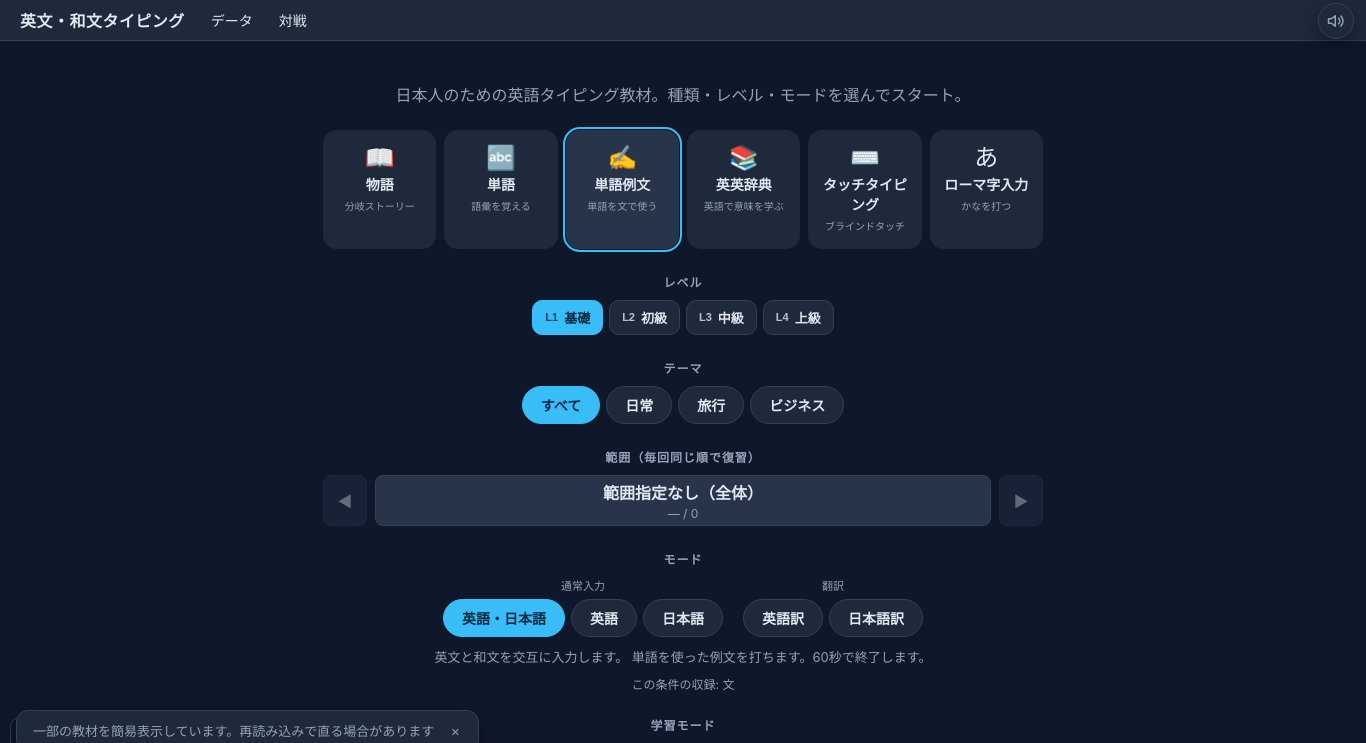
Test case: App スモーク › 紹介ページで Esc を押すとトップへ戻る
Click the menu item "英文・和文タイピング". click: (102, 20)
box: x1=8 y1=0 x2=197 y2=40
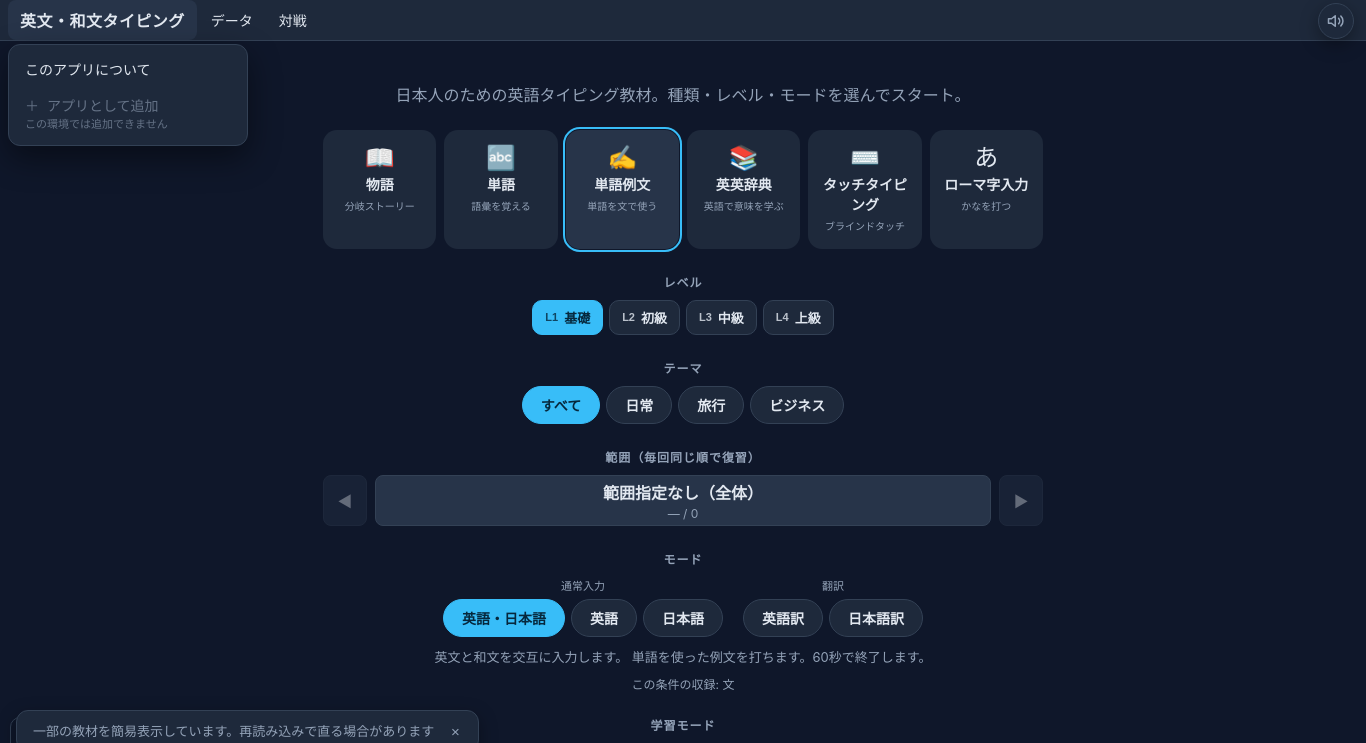
Click the menu item "このアプリについて". click: (128, 69)
box: x1=15 y1=51 x2=241 y2=87
(page scrolled)
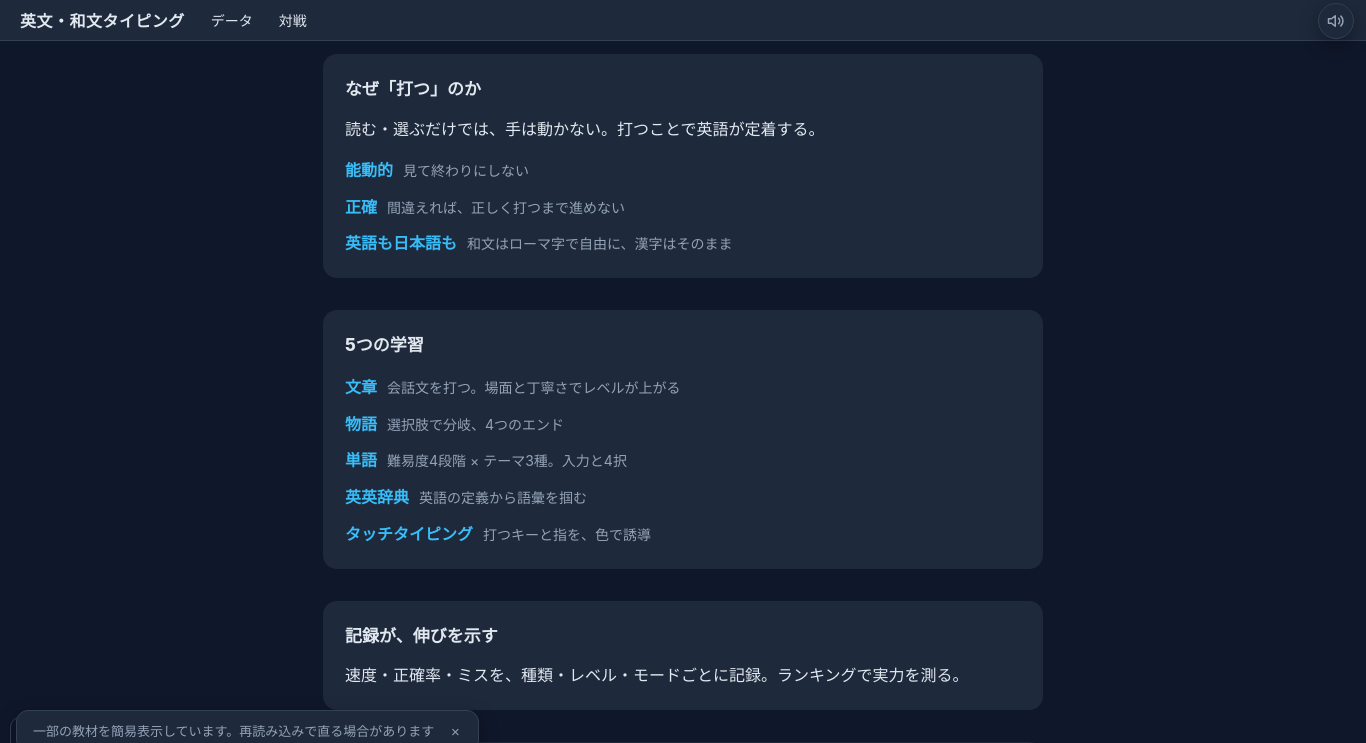
Press Escape
(page scrolled)
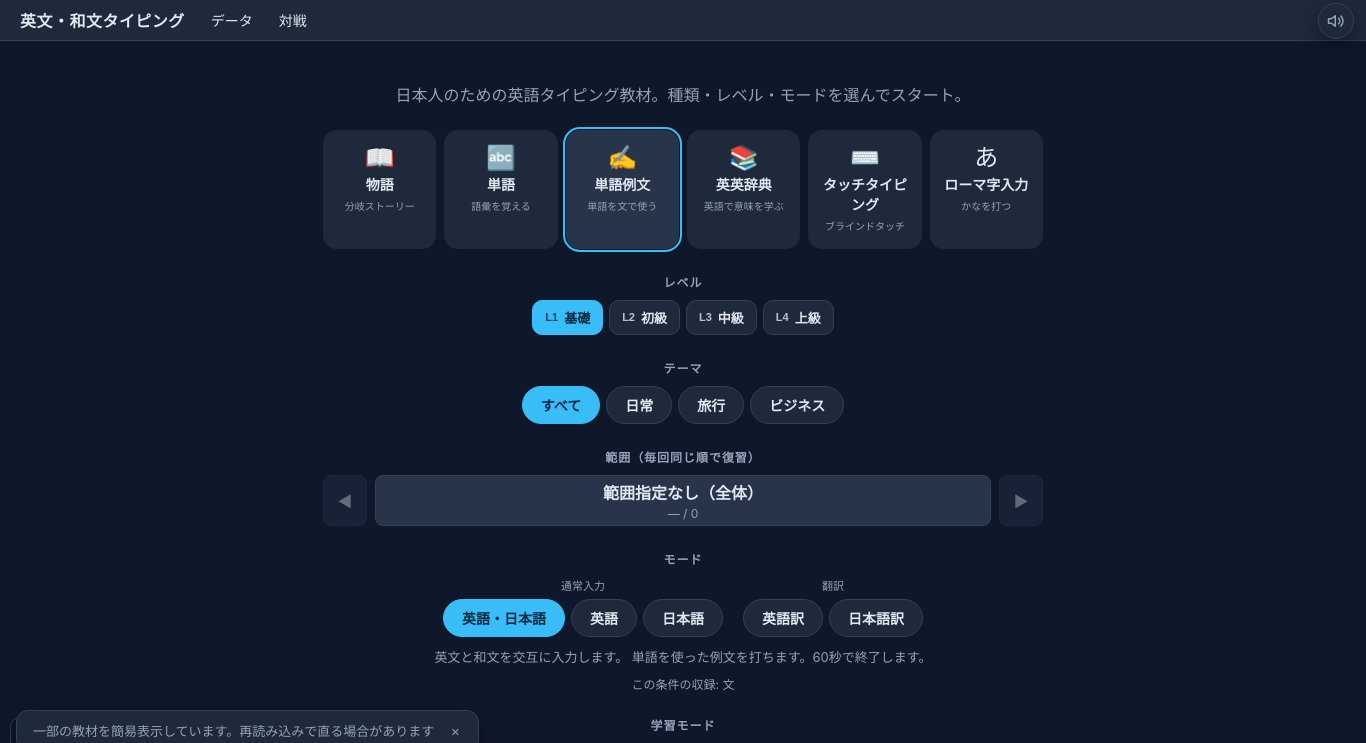
Expected: the element with class "type-tabs" is shown, x1=323 y1=130 x2=1043 y2=249
